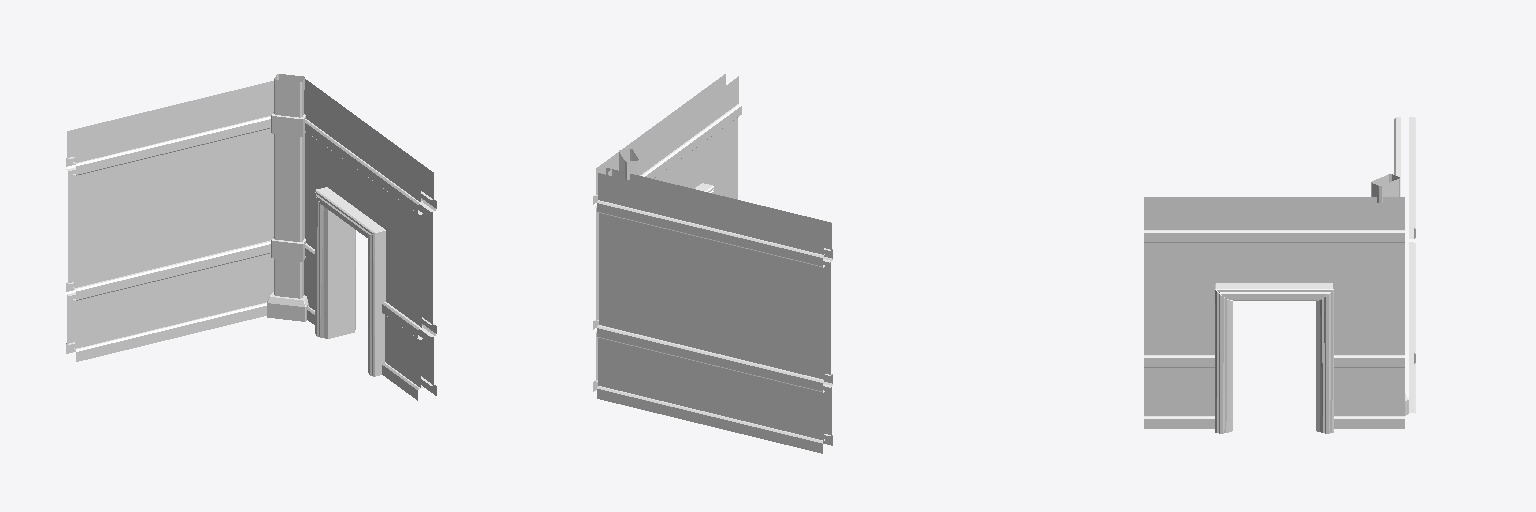
File: Prefab_02.obj
The picture shows the model from 3 angles: view 1: azimuth 30°, elevation 25°; view 2: azimuth 150°, elevation 25°; view 3: azimuth 270°, elevation 25°; orthographic projection.
Parts seen in each view (by area): view 1: Object004, Object002, Object003, Box002; view 2: Object004, Object002; view 3: Object002, Object003, Object004, Box002.
Part boxes in pixels (x1,y1,x2,y2): Object004: (66,81,273,361); Object002: (304,79,436,400); Object003: (315,187,385,376); Box002: (267,74,308,321); Object004: (597,168,832,453); Object002: (593,74,741,391); Object002: (1144,197,1404,428); Object003: (1215,283,1333,433); Object004: (1394,117,1415,413); Box002: (1371,174,1408,415).
Bounding box in the file's own units: 434 × 400 × 416.